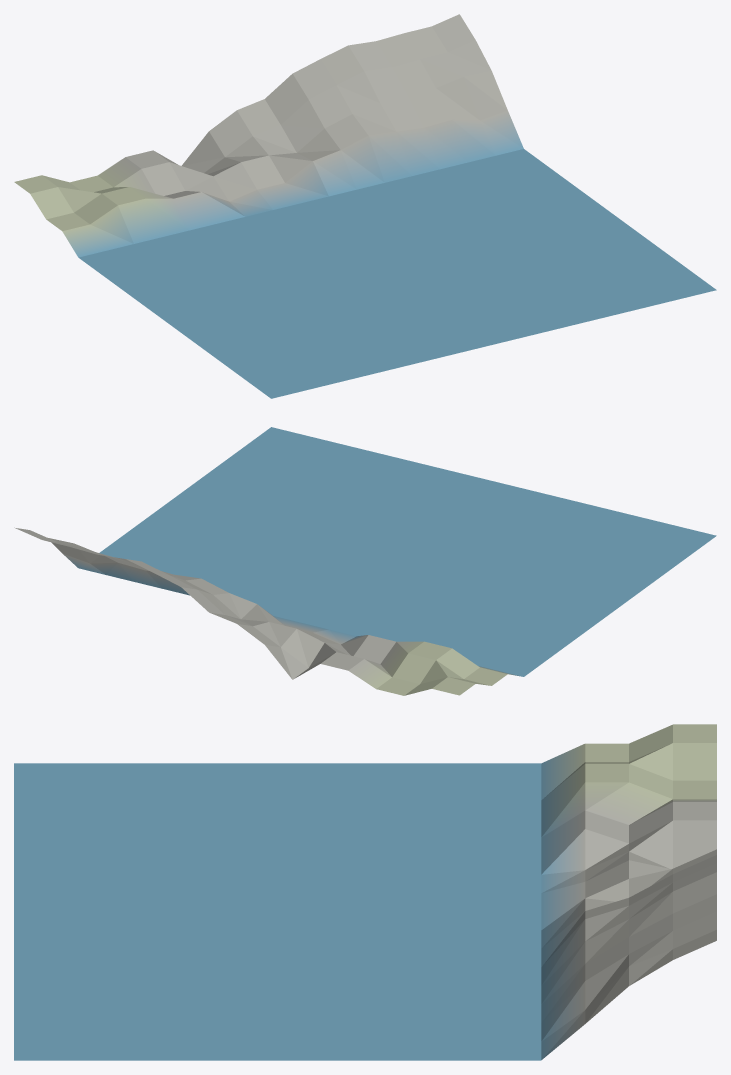
The picture shows the model from 3 angles, top to bottom: view 1: azimuth 30°, elevation 25°; view 2: azimuth 150°, elevation 25°; view 3: azimuth 270°, elevation 25°; orthographic projection. The views are drawn at different scales.
Bounding box in the file's own units: 32 × 6.02 × 32.
